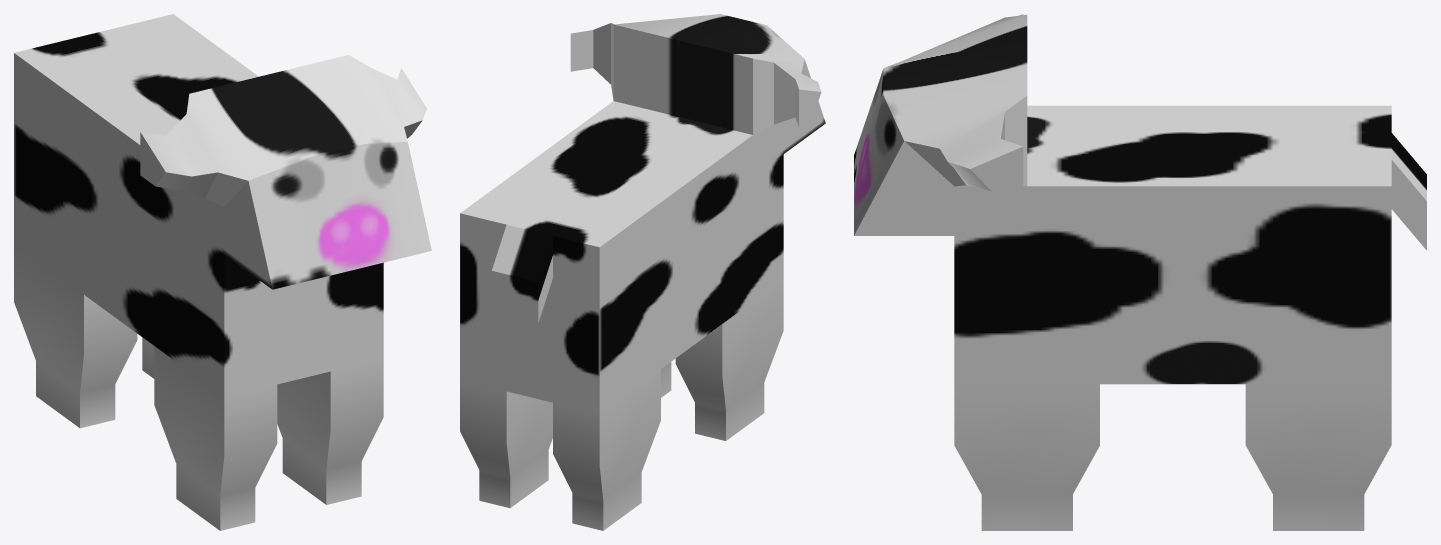
The model's file is Cow.obj.
The picture shows the model from 3 angles, left to right: view 1: azimuth 30°, elevation 25°; view 2: azimuth 150°, elevation 25°; view 3: azimuth 270°, elevation 25°; orthographic projection. The views are drawn at different scales.
Parts seen in each view (by area): view 1: pCube1; view 2: pCube1; view 3: pCube1.
Part boxes in pixels (box(x1,y1,x2,y2)): pCube1: box(14, 14, 431, 530); pCube1: box(460, 14, 825, 530); pCube1: box(854, 14, 1426, 530).
Bounding box in the file's own units: 5.74 × 8.88 × 10.48.
1 material, 1 textured.
